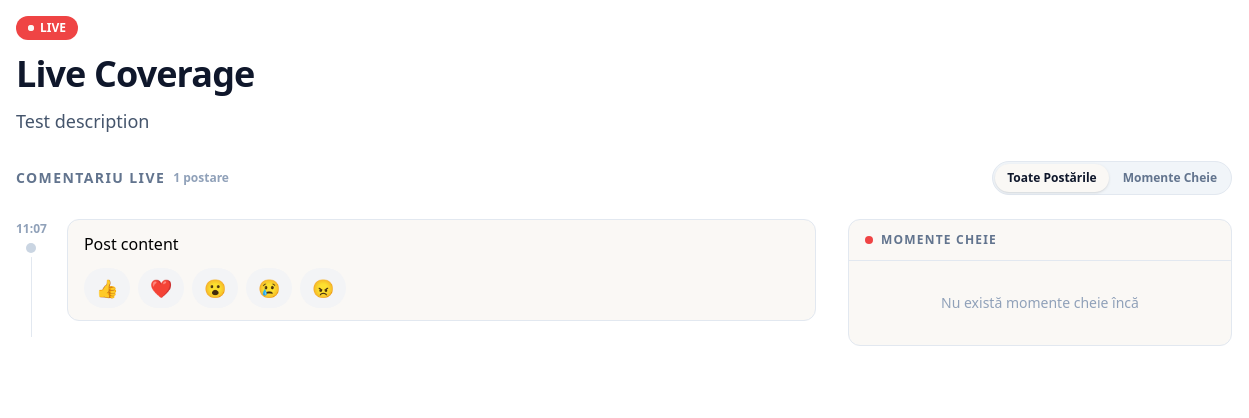
Test: LiveTextViewer - key points filter › shows empty state when no key points and filter is on
Click the button "Momente Cheie".
click(1170, 178)  # box [1111, 164, 1229, 192]
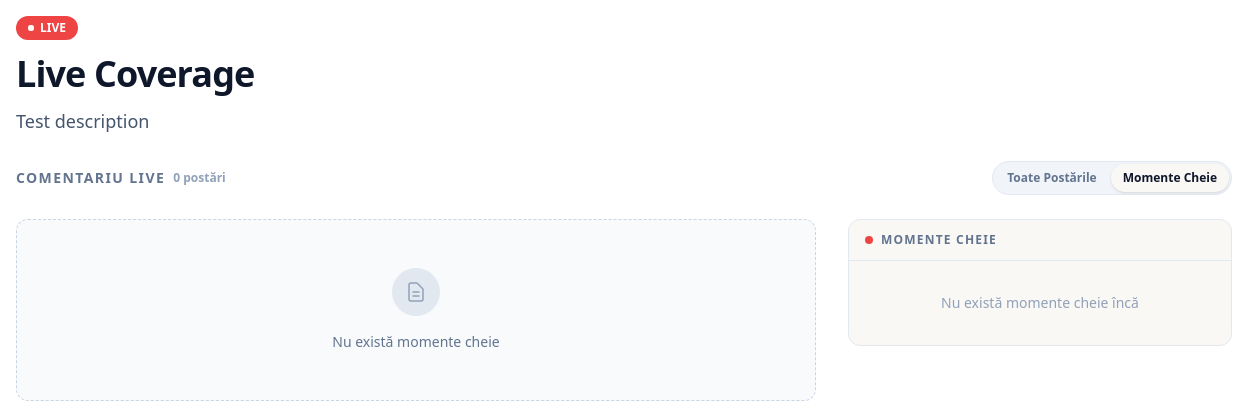
Now the text "Nu există momente cheie" is shown, box [332, 332, 500, 351]
